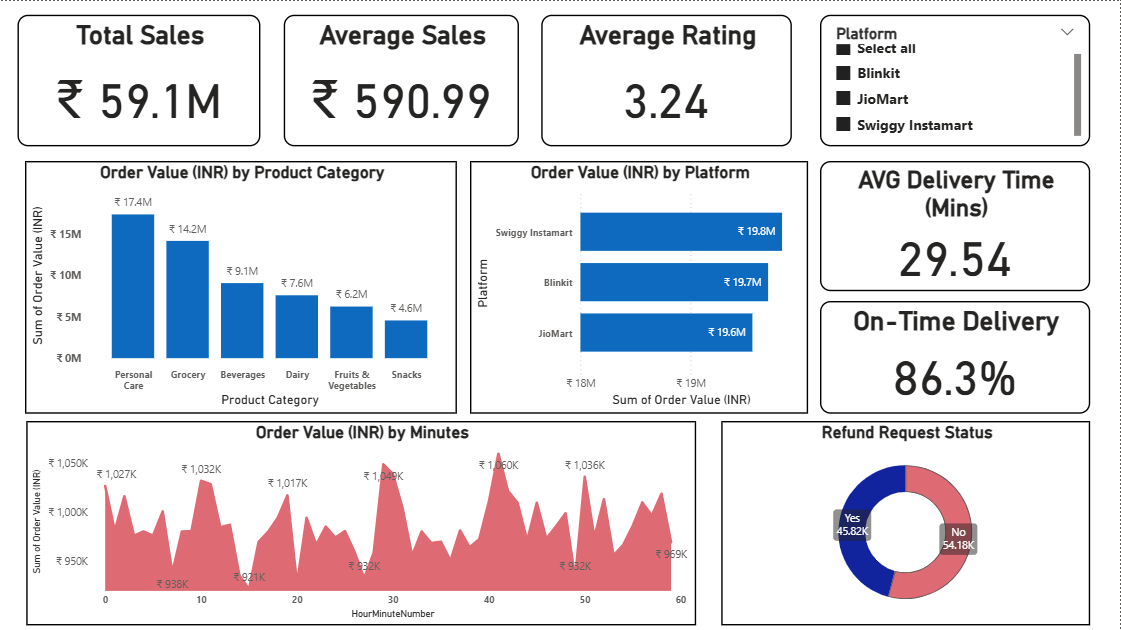

The page's visual inventory and layout, read from the dashboard file:
{"tool":"powerbi","page":{"name":"Ecommerce_Dashboard","canvas":[1280,720],"ordinal":0},"visuals":[{"type":"barChart","title":"Order Value (INR) by Platform","fields":{"Category":["Ecommerce_Delivery_Analytics_Ne.Platform"],"Y":["Sum(Ecommerce_Delivery_Analytics_Ne.Order Value (INR))"]},"box":[537.5,182.5,386.2,288.8],"z":0},{"type":"card","title":"Total Sales","fields":{"Values":["Sum(Ecommerce_Delivery_Analytics_Ne.Order Value (INR))"]},"box":[20,16.2,277.5,150],"z":1000},{"type":"card","title":"Average Sales","fields":{"Values":["Ecommerce_Delivery_Analytics_Ne.Measure"]},"box":[325,16.2,268.8,150],"z":2000},{"type":"card","title":"Average Rating","fields":{"Values":["Avg(Ecommerce_Delivery_Analytics_Ne.Service Rating)"]},"box":[618.8,16.2,286.2,150],"z":3000},{"type":"card","title":"AVG Delivery Time (Mins)","fields":{"Values":["Avg(Ecommerce_Delivery_Analytics_Ne.Delivery Time (Minutes))"]},"box":[937.5,182.5,308.8,148.8],"z":4000},{"type":"columnChart","title":"Order Value (INR) by Product Category","fields":{"Category":["Ecommerce_Delivery_Analytics_Ne.Product Category"],"Y":["Sum(Ecommerce_Delivery_Analytics_Ne.Order Value (INR))"]},"box":[28.8,182.5,493.8,288.8],"z":5000},{"type":"areaChart","title":"Order Value (INR) by HourMinuteNumber","fields":{"Category":["Ecommerce_Delivery_Analytics_Ne.HourMinuteNumber"],"Y":["Sum(Ecommerce_Delivery_Analytics_Ne.Order Value (INR))"]},"box":[29.3,480.6,765.5,233.6],"z":6000},{"type":"donutChart","title":"Refund Request Status","fields":{"Category":["Ecommerce_Delivery_Analytics_Ne.Refund Request Status"],"Y":["CountNonNull(Ecommerce_Delivery_Analytics_Ne.Refund Request Status)"]},"box":[824.2,480.6,421.9,233.6],"z":7000},{"type":"card","title":"On-Time Delivery ","fields":{"Values":["Ecommerce_Delivery_Analytics_Ne.OnTime Delivery %","select"]},"box":[937.5,342.5,308.8,128.8],"z":7001},{"type":"slicer","fields":{"Values":["Ecommerce_Delivery_Analytics_Ne.Platform"]},"box":[937.5,16.2,308.8,150],"z":7002}]}

Visuals, with their boxes in screenshot pixels (x1, y1, x2, y2), scaled from the page's 1280x720 canvas onto the 1121x630 screenshot:
"Order Value (INR) by Platform" barChart: rect(471, 160, 809, 412)
"Total Sales" card: rect(18, 14, 261, 145)
"Average Sales" card: rect(285, 14, 520, 145)
"Average Rating" card: rect(542, 14, 793, 145)
"AVG Delivery Time (Mins)" card: rect(821, 160, 1091, 290)
"Order Value (INR) by Product Category" columnChart: rect(25, 160, 458, 412)
"Order Value (INR) by HourMinuteNumber" areaChart: rect(26, 421, 696, 625)
"Refund Request Status" donutChart: rect(722, 421, 1091, 625)
"On-Time Delivery " card: rect(821, 300, 1091, 412)
slicer - Ecommerce_Delivery_Analytics_Ne.Platform: rect(821, 14, 1091, 145)
